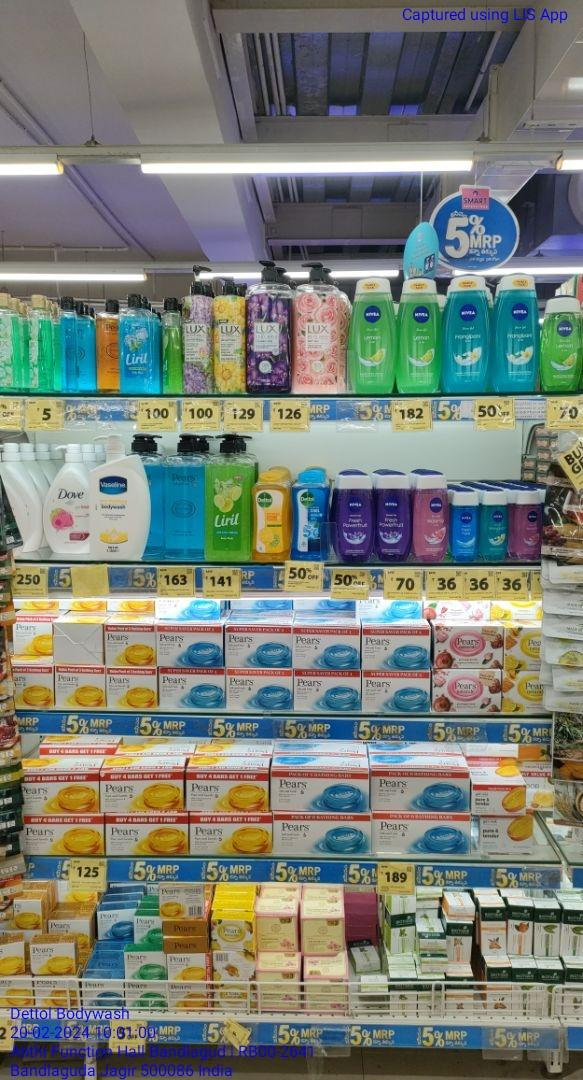Dettol_Bodywash_Cool: (291, 474, 326, 559)
Dettol_Bodywash_Refresh: (253, 477, 288, 559)
Liril_Cooling_Mint_Body_Wash_250ML: (119, 293, 156, 396)
Nivea_Shower_Gel_Frangipani_and_Oil_250ML: (444, 272, 491, 390), (495, 275, 541, 390)
Nivea_Shower_Gel_Fresh_Powerfruit_250ML: (376, 470, 412, 561), (338, 476, 374, 565)
Nivea_Shower_Gel_Lemon_and_Oil_250ML: (349, 279, 395, 395), (399, 279, 441, 392), (544, 295, 581, 392)
Nivea_Shower_Gel_Waterlily_and_Oil_250ML: (415, 470, 450, 565)
